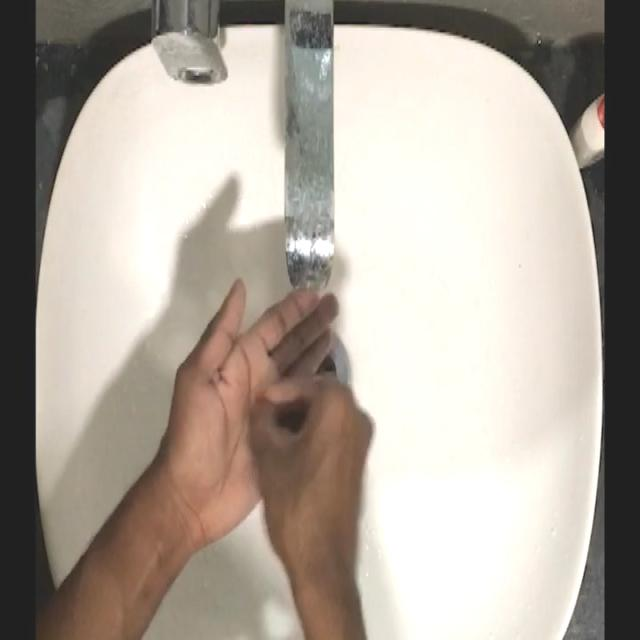step_6: (165, 276, 381, 585)
